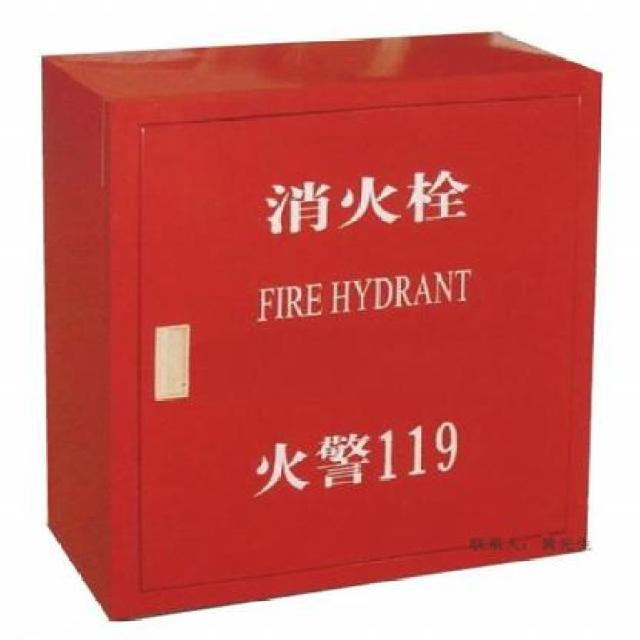firehydrant: (32, 23, 610, 629)
